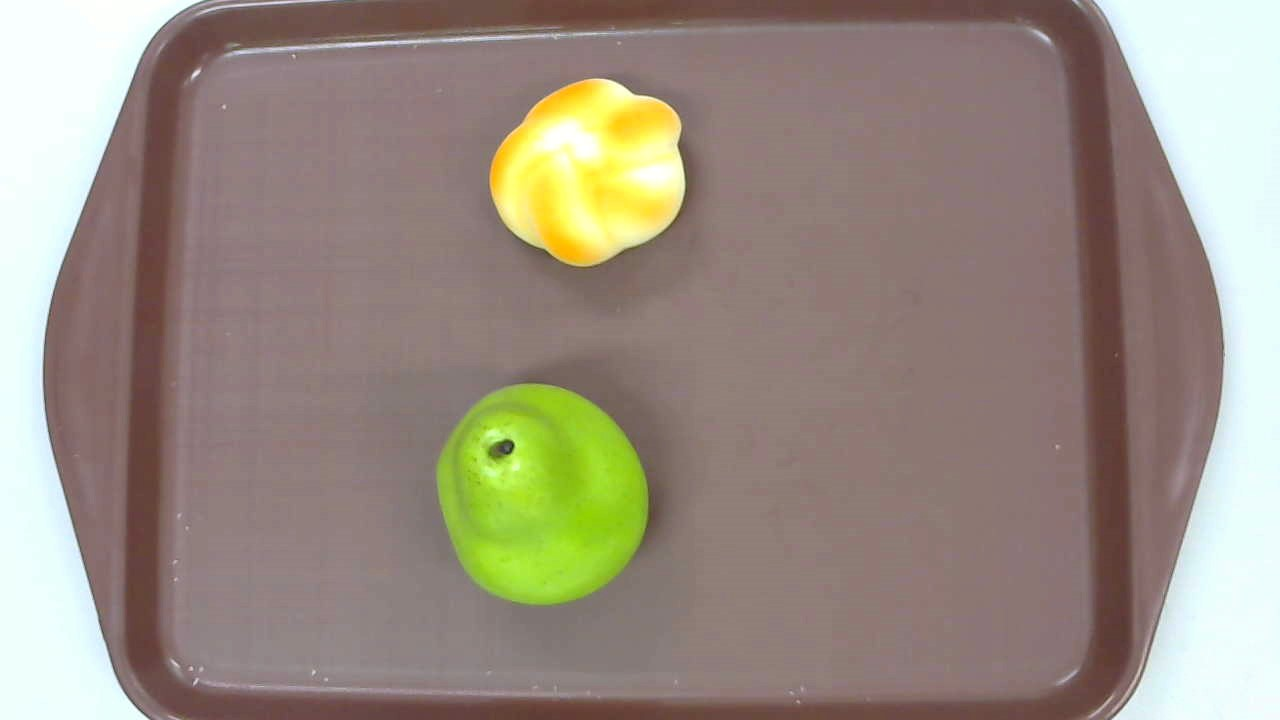green pear: (437, 381, 649, 607)
twist bread: (489, 78, 686, 268)
